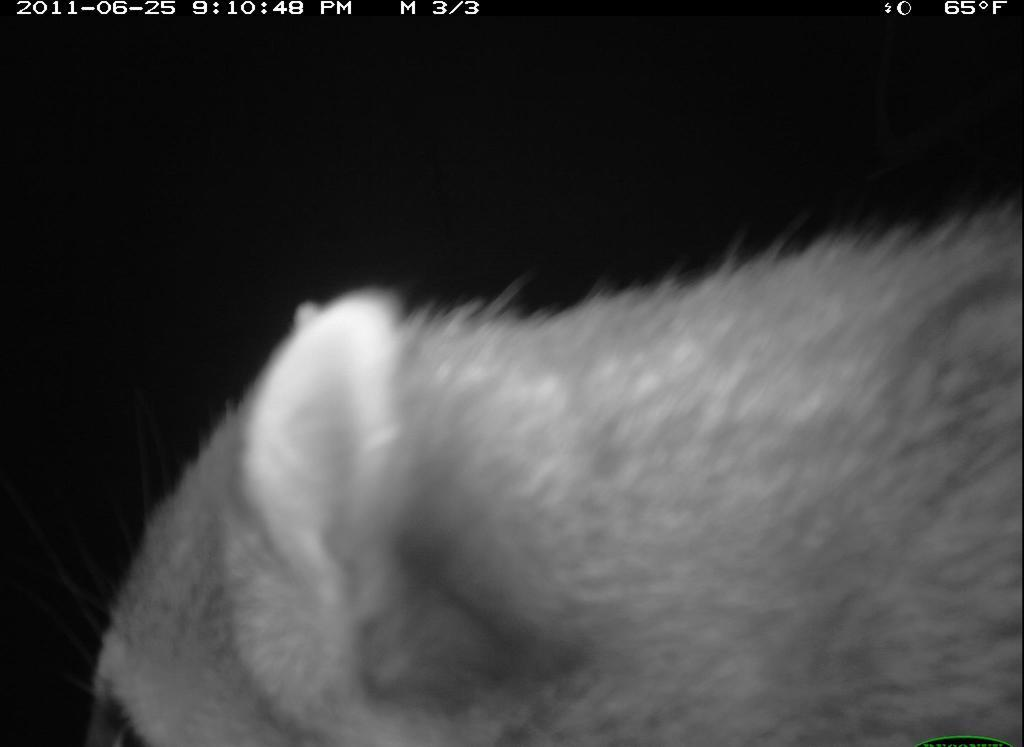raccoon: (75, 203, 1022, 739)
